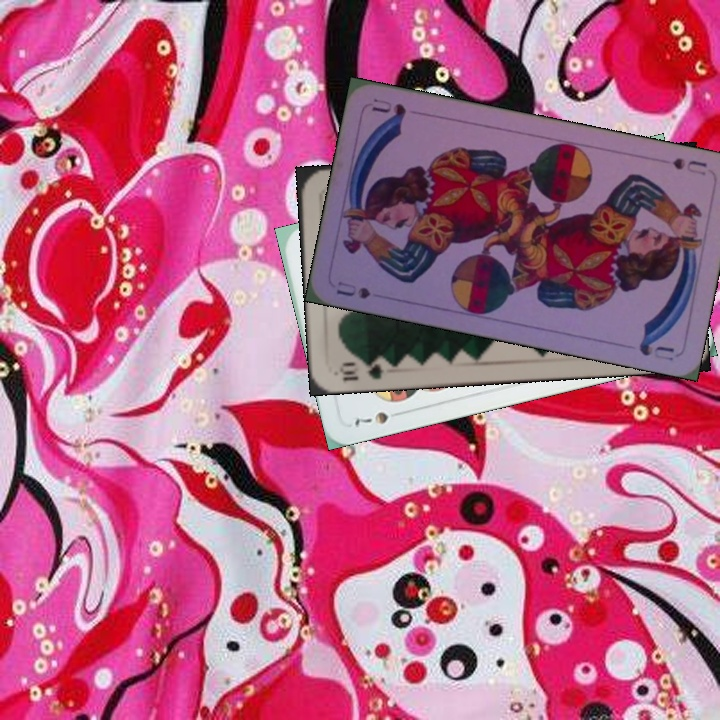G10: (335, 355, 392, 384)
S7: (350, 407, 406, 432)
SU: (668, 153, 709, 178), (332, 277, 373, 301)
